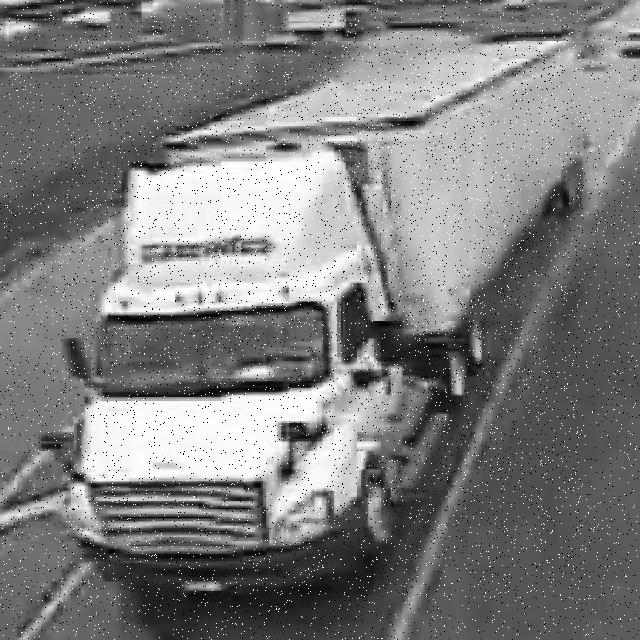Tractor Trailer: (62, 38, 585, 601)
